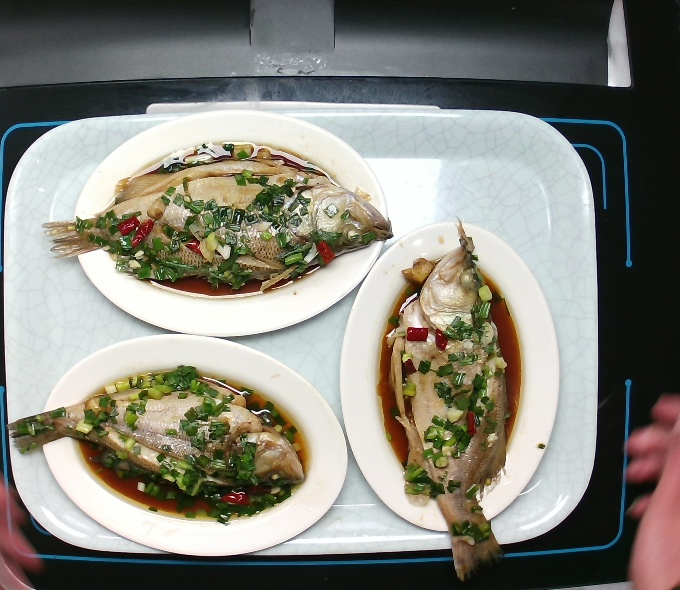wcq-LuYu: (371, 218, 530, 581), (45, 137, 394, 302), (1, 363, 310, 528)
